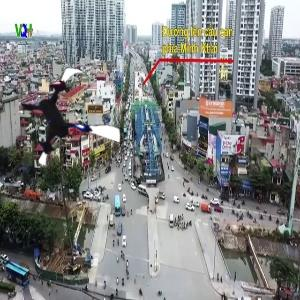drone: (13, 65, 127, 179)
